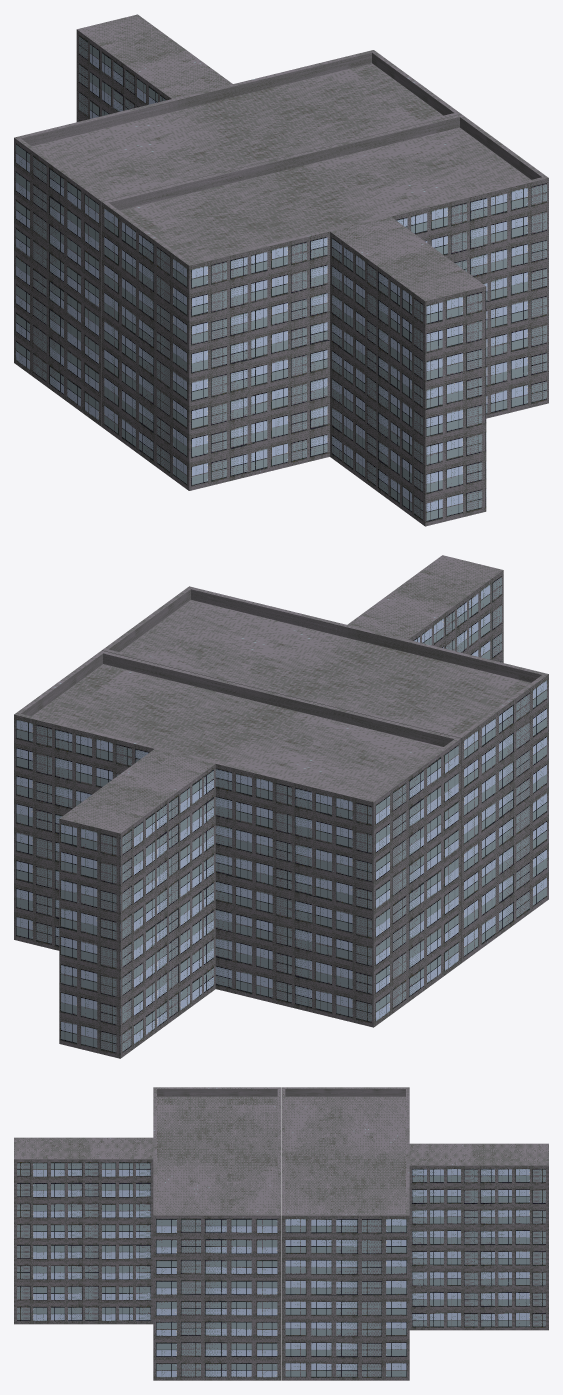
File: Building 00.fbx
3 renders of one model, top to bottom at view 1: azimuth 30°, elevation 25°; view 2: azimuth 150°, elevation 25°; view 3: azimuth 270°, elevation 25°, orthographic. The views are drawn at different scales.
Visible parts, largest first — view 1: pCube23; view 2: pCube23; view 3: pCube23.
Boxes of the visible parts, x1,y1,x2,y2 form: pCube23: (14, 14, 548, 526); pCube23: (14, 555, 548, 1058); pCube23: (14, 1087, 548, 1380).
Size of the model in its own units: 25.07 by 15 by 44.14.
Materials: 2 (2 with a texture image).
